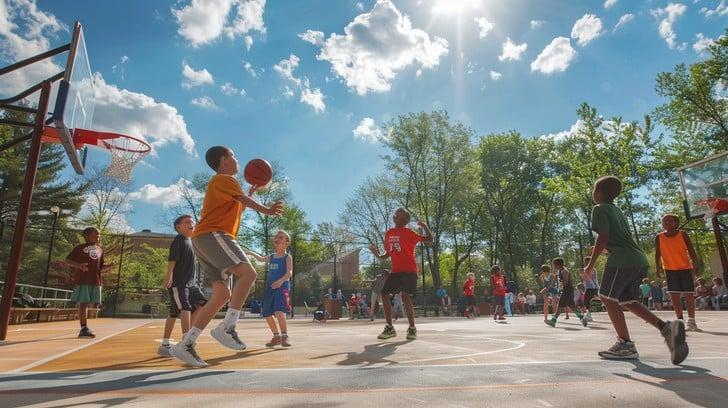basketball: (244, 158, 273, 185)
